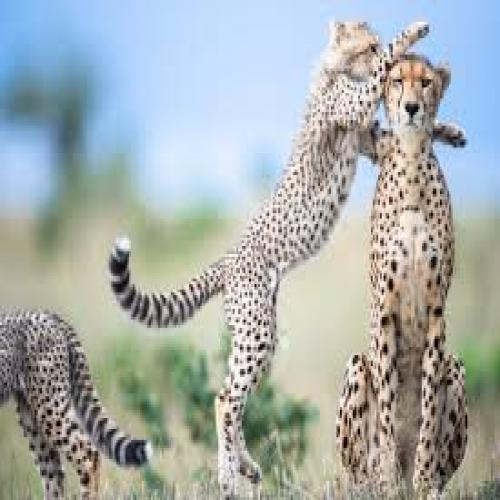cheetah-endangered: (149, 19, 428, 497), (347, 56, 468, 500), (0, 306, 149, 497)
